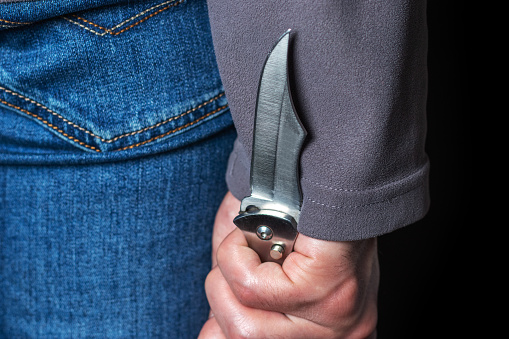knife: (231, 23, 309, 270)
